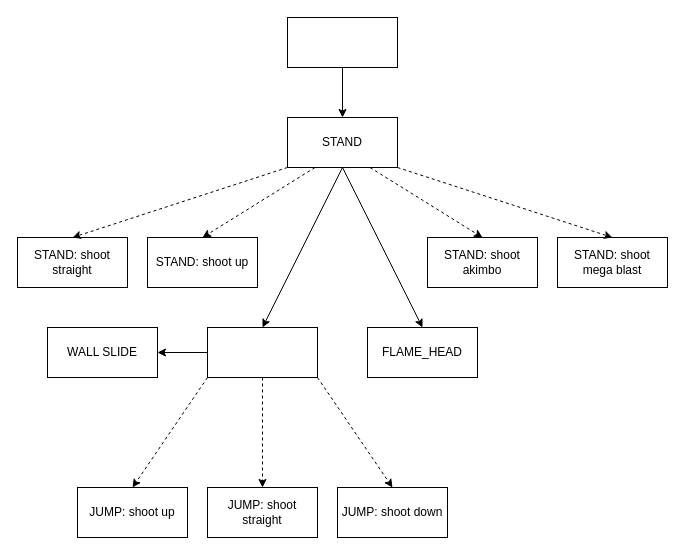
The diagram is 685 pixels wide and 555 high, and some of its shapes have lost their labels. The box of each missing label's shape, as (x1, y1, x2, y2) in pixels:
INIT: (286, 16, 398, 68)
JUMP: (206, 326, 318, 378)
